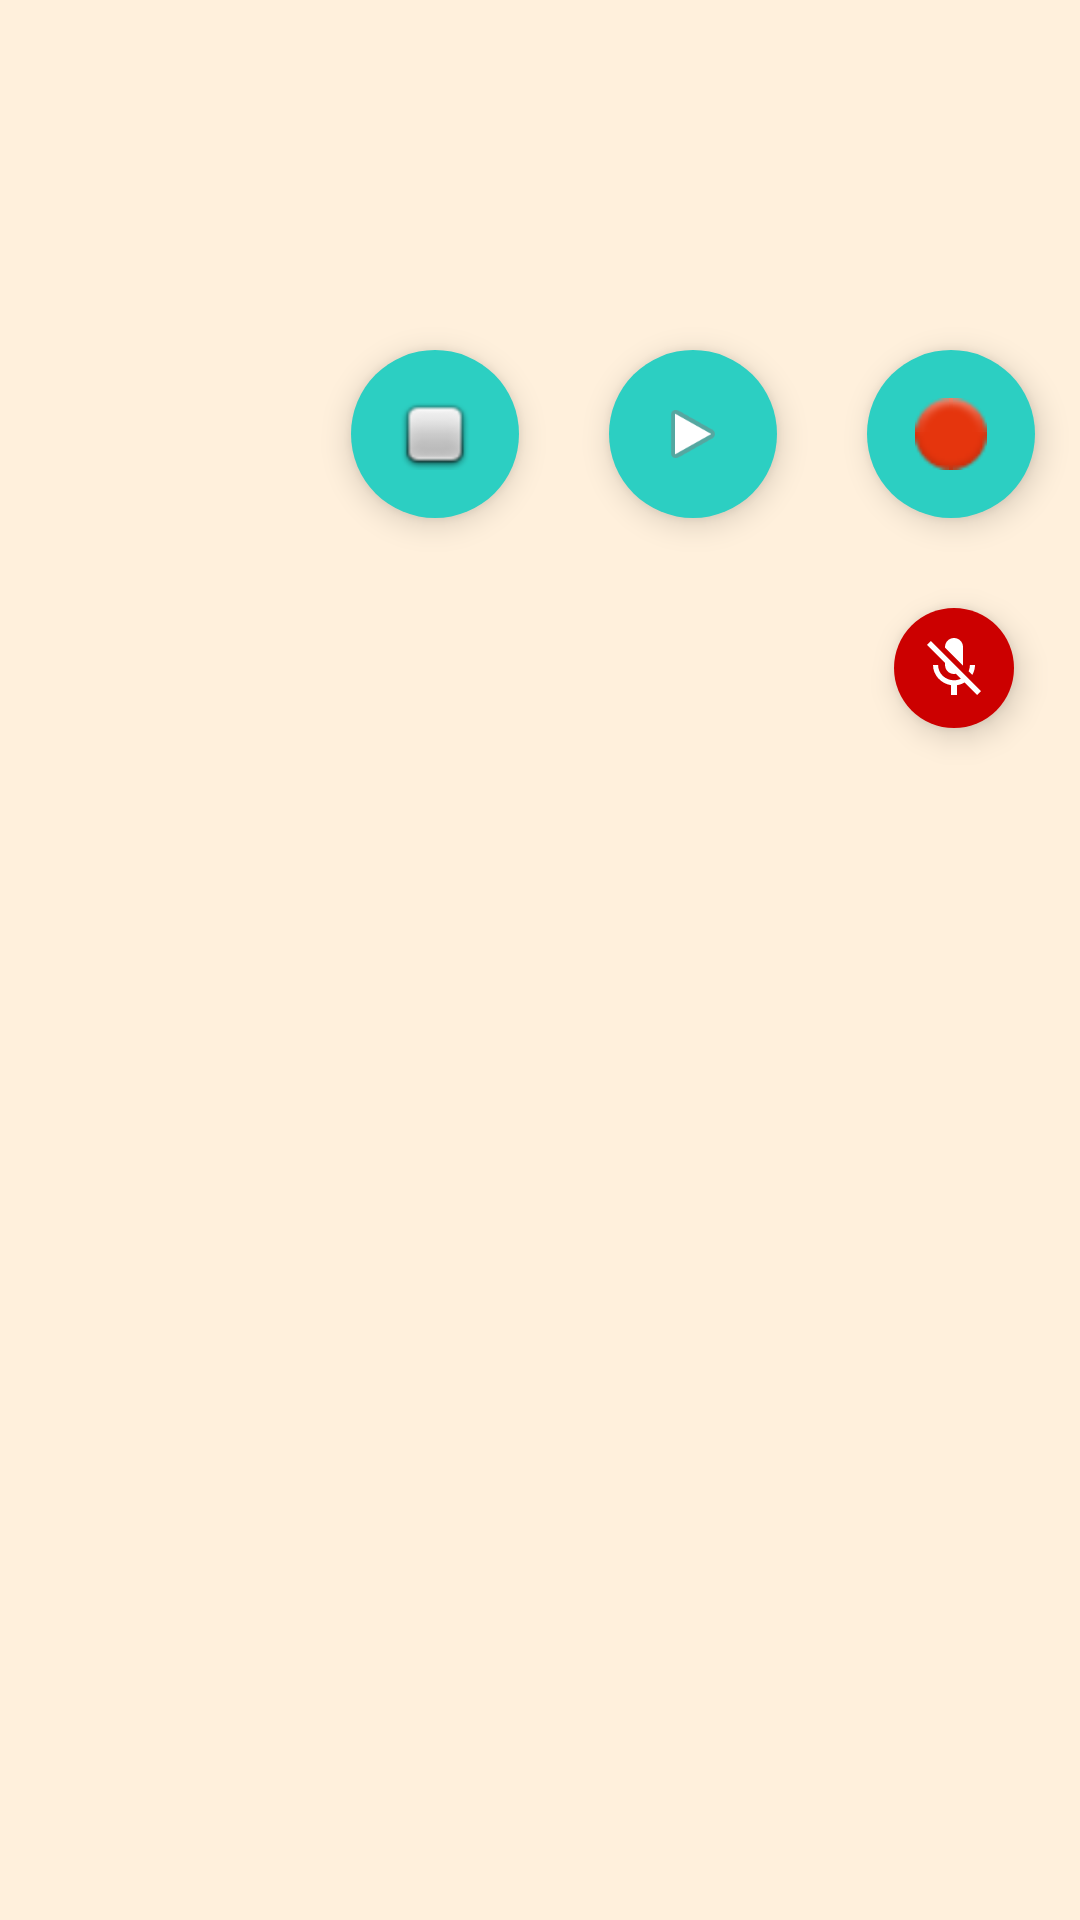

Icon bounding boxes for this 1080*1920 phone screenshot, format (x1, y1, x2, y2):
call mute: (894, 608, 1014, 728)
play: (609, 350, 777, 518)
